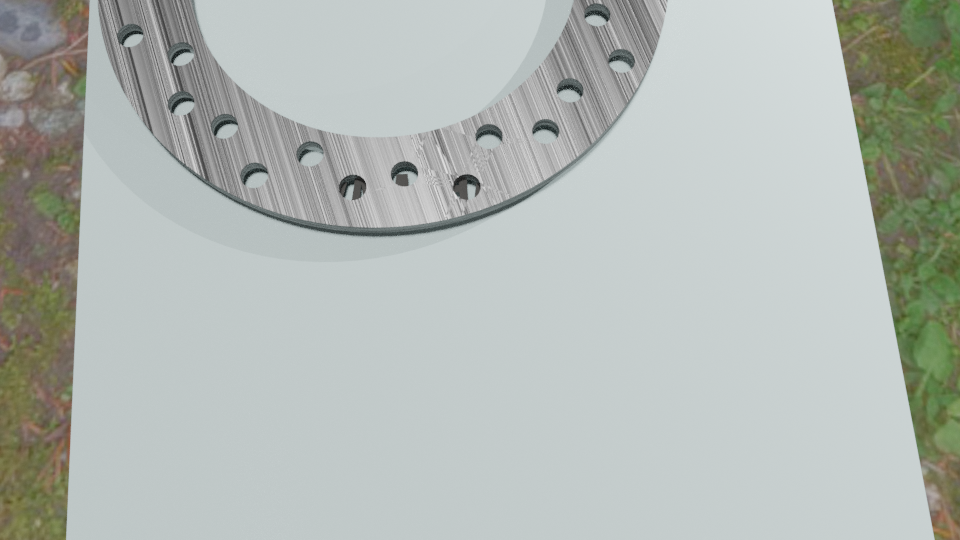yamaha_letters: (338, 160, 481, 200)
